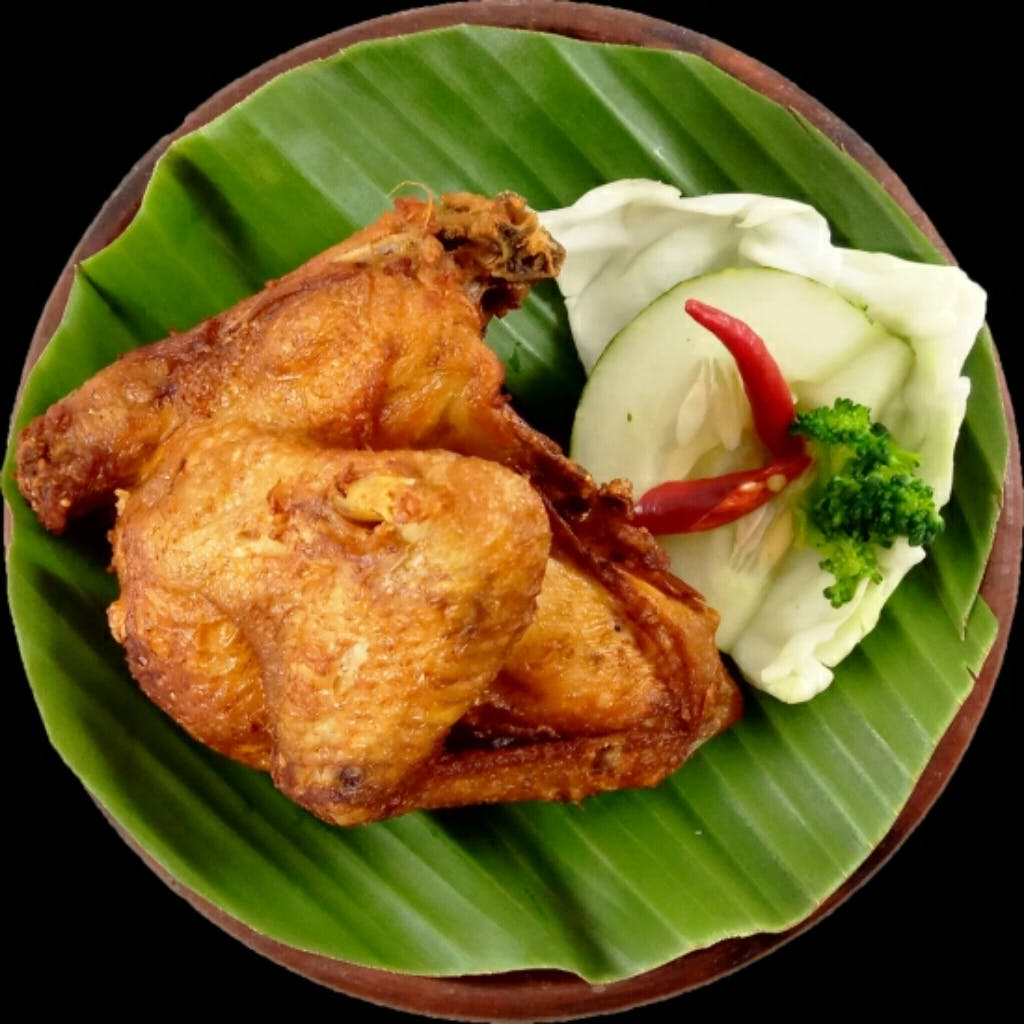Ayam: (68, 203, 679, 920)
